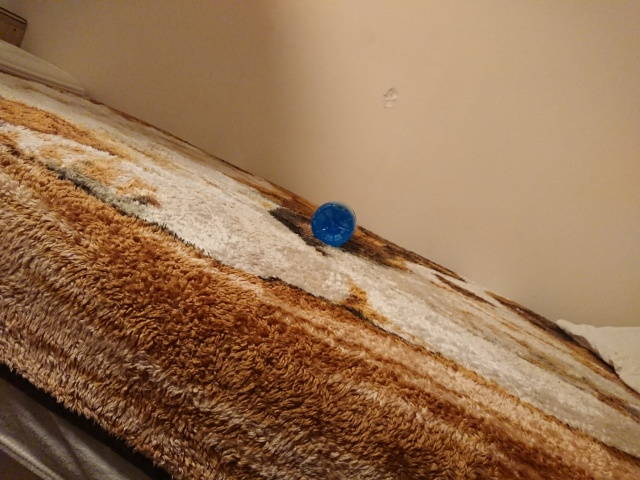Vindi Iso Sport Forest Strawberries 500mL: (309, 199, 357, 246)
